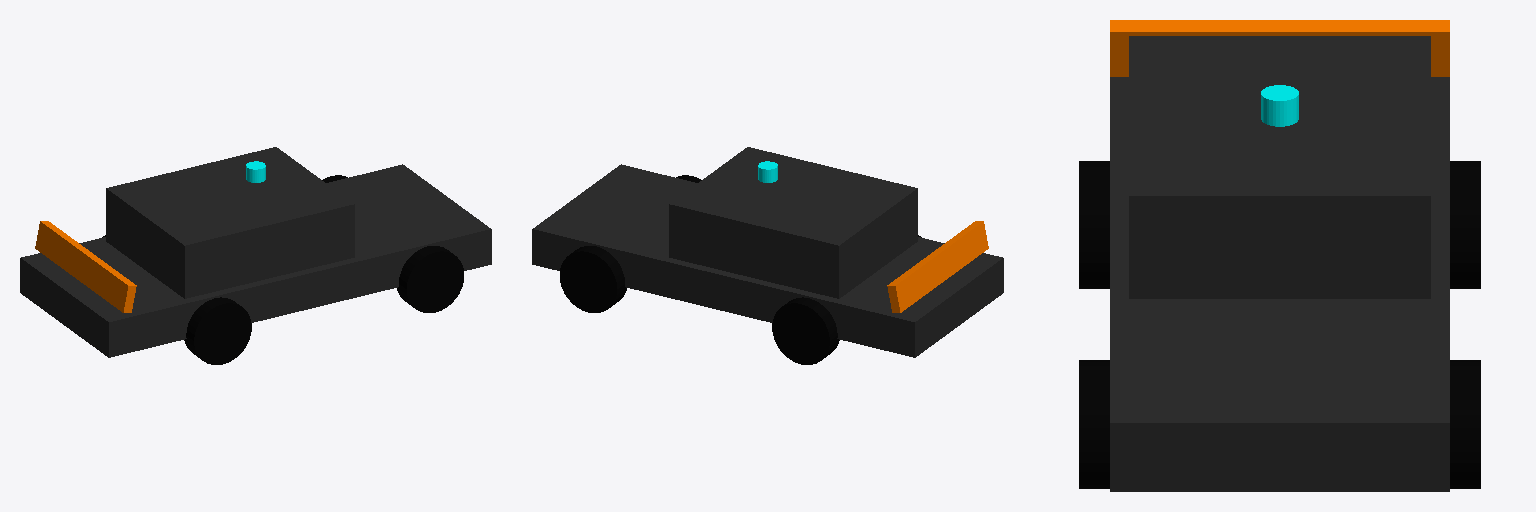
The robot description file, URDF, robot "autocar_slam":
<?xml version="1.0"?>
<robot name="autocar_slam">
  
  <!-- Materiales -->
  <material name="dark_grey">
    <color rgba="0.2 0.2 0.2 1.0"/>
  </material>
  <material name="orange">
    <color rgba="1.0 0.5 0.0 1.0"/>
  </material>
  <material name="black">
    <color rgba="0.05 0.05 0.05 1.0"/>
  </material>
  <material name="cyan">
    <color rgba="0.0 1.0 1.0 1.0"/>
  </material>

  <!-- Base Link (Centro del vehículo) -->
  <link name="base_link">
    <!-- Chasis principal -->
    <visual>
      <origin xyz="0 0 0.5" rpy="0 0 0"/>
      <geometry>
        <box size="4.5 1.8 0.4"/>
      </geometry>
      <material name="dark_grey"/>
    </visual>
    <!-- Cabina -->
    <visual>
      <origin xyz="-0.3 0 1.0" rpy="0 0 0"/>
      <geometry>
        <box size="2.0 1.6 0.6"/>
      </geometry>
      <material name="dark_grey"/>
    </visual>
    <!-- Spoiler trasero -->
    <visual>
      <origin xyz="-2.0 0 0.9" rpy="0 0.2 0"/>
      <geometry>
        <box size="0.1 1.8 0.3"/>
      </geometry>
      <material name="orange"/>
    </visual>
  </link>

  <!-- Rueda Frontal Izquierda -->
  <link name="fl_wheel">
    <visual>
      <geometry>
        <cylinder radius="0.34" length="0.22"/>
      </geometry>
      <material name="black"/>
    </visual>
  </link>
  <joint name="fl_joint" type="fixed">
    <parent link="base_link"/>
    <child link="fl_wheel"/>
    <origin xyz="1.5 0.95 0.34" rpy="1.5708 0 0"/>
  </joint>

  <!-- Rueda Frontal Derecha -->
  <link name="fr_wheel">
    <visual>
      <geometry>
        <cylinder radius="0.34" length="0.22"/>
      </geometry>
      <material name="black"/>
    </visual>
  </link>
  <joint name="fr_joint" type="fixed">
    <parent link="base_link"/>
    <child link="fr_wheel"/>
    <origin xyz="1.5 -0.95 0.34" rpy="1.5708 0 0"/>
  </joint>

  <!-- Rueda Trasera Izquierda -->
  <link name="bl_wheel">
    <visual>
      <geometry>
        <cylinder radius="0.34" length="0.22"/>
      </geometry>
      <material name="black"/>
    </visual>
  </link>
  <joint name="bl_joint" type="fixed">
    <parent link="base_link"/>
    <child link="bl_wheel"/>
    <origin xyz="-1.0 0.95 0.34" rpy="1.5708 0 0"/>
  </joint>

  <!-- Rueda Trasera Derecha -->
  <link name="br_wheel">
    <visual>
      <geometry>
        <cylinder radius="0.34" length="0.22"/>
      </geometry>
      <material name="black"/>
    </visual>
  </link>
  <joint name="br_joint" type="fixed">
    <parent link="base_link"/>
    <child link="br_wheel"/>
    <origin xyz="-1.0 -0.95 0.34" rpy="1.5708 0 0"/>
  </joint>

  <!-- Velodyne LiDAR en el techo -->
  <link name="velodyne">
    <visual>
      <geometry>
        <cylinder radius="0.1" length="0.15"/>
      </geometry>
      <material name="cyan"/>
    </visual>
  </link>
  <joint name="velodyne_joint" type="fixed">
    <parent link="base_link"/>
    <child link="velodyne"/>
    <origin xyz="0 0 1.5" rpy="0 0 0"/>
  </joint>

</robot>

--- Facts derived from the render (not from the file) ---
3 views of the same robot in one strip: view 1: azimuth 30°, elevation 25°; view 2: azimuth 150°, elevation 25°; view 3: azimuth 270°, elevation 25° (orthographic).
Model autocar_slam with 6 links and 5 joints (5 fixed), rooted at base_link, posed all joints at 0.
Visible links, largest first — view 1: base_link, br_wheel, fr_wheel; view 2: base_link, bl_wheel, fl_wheel; view 3: base_link, fl_wheel, fr_wheel, bl_wheel, br_wheel, velodyne.
Link boxes in pixels (x1,y1,x2,y2): base_link: (20, 147, 491, 357); br_wheel: (184, 297, 251, 364); fr_wheel: (397, 246, 463, 312); base_link: (532, 147, 1003, 357); bl_wheel: (772, 297, 839, 364); fl_wheel: (560, 246, 626, 312); base_link: (1110, 20, 1449, 491); fl_wheel: (1450, 360, 1480, 488); fr_wheel: (1079, 360, 1109, 488); bl_wheel: (1450, 161, 1480, 288); br_wheel: (1079, 161, 1109, 288); velodyne: (1261, 85, 1298, 126).
Size in the robot's own frame: 4.5 by 2.12 by 1.57 metres.
Geometry: primitives only (box / cylinder / sphere), no mesh files.